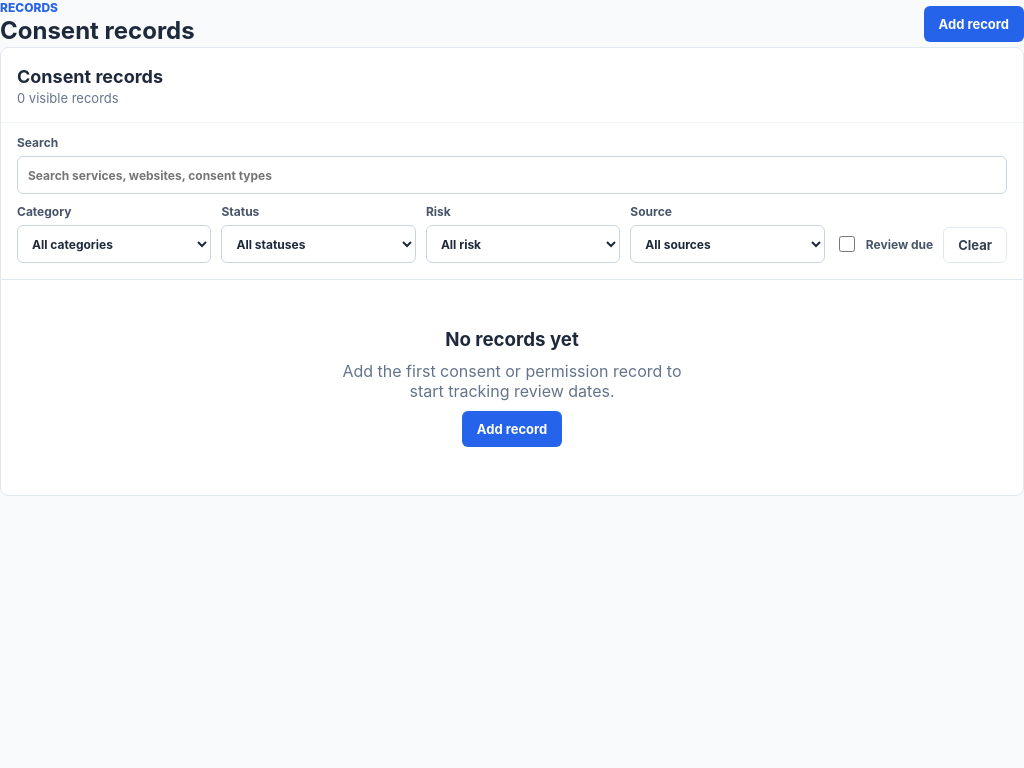
Test: record modal and CRUD › keeps Save disabled until the required fields are filled
The width and height of the screenshot is (1024, 768).
Click the 1st button "Add record": (974, 24) [924,6,1023,42]
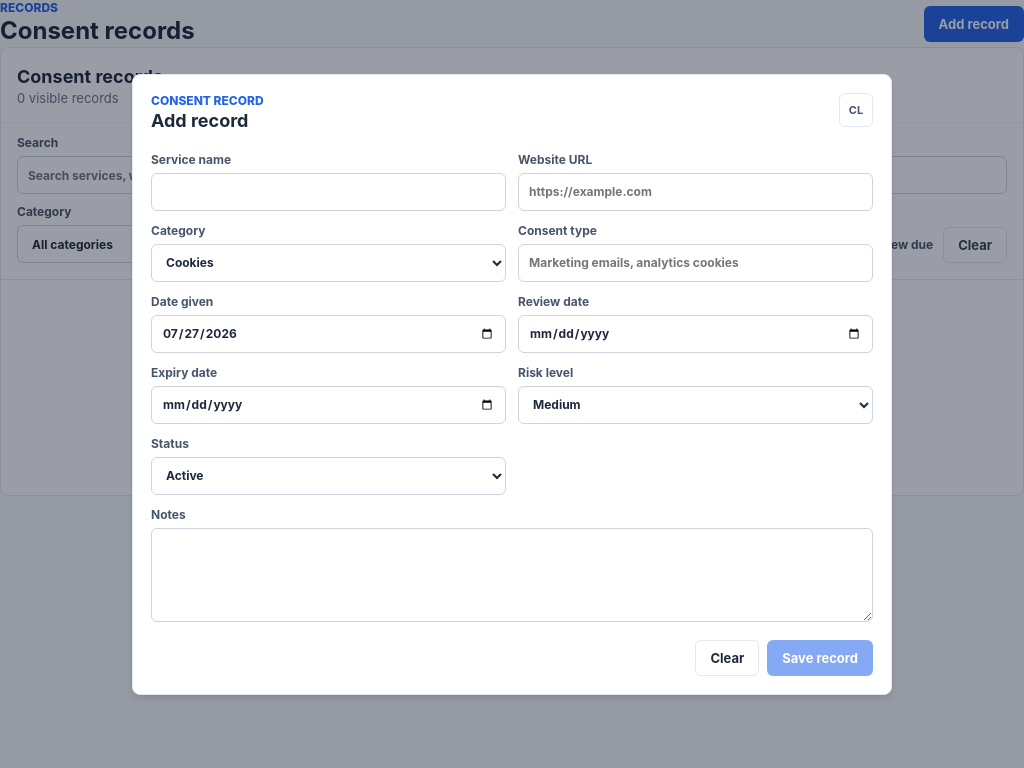
Expected: the button "Save record" is disabled, [767,640,873,676]
In the field labelled "Service name": (328, 192) [151,172,506,210], type "Acme"
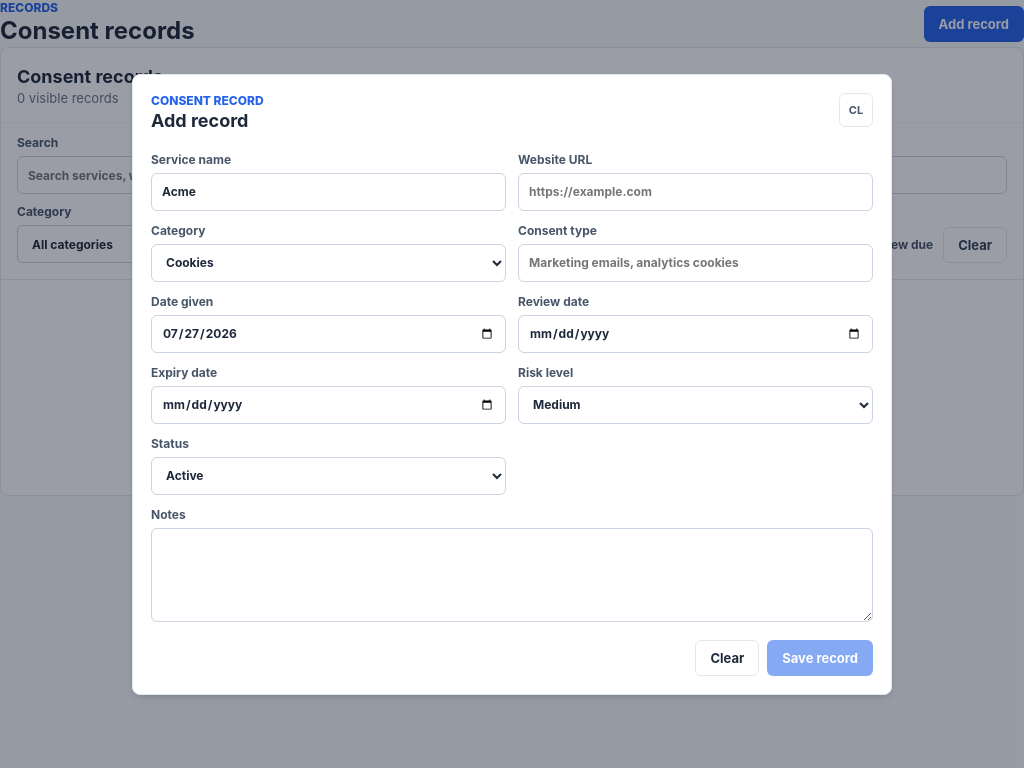
In the field labelled "Website URL": (696, 192) [518,172,873,210], type "https://acme.example"
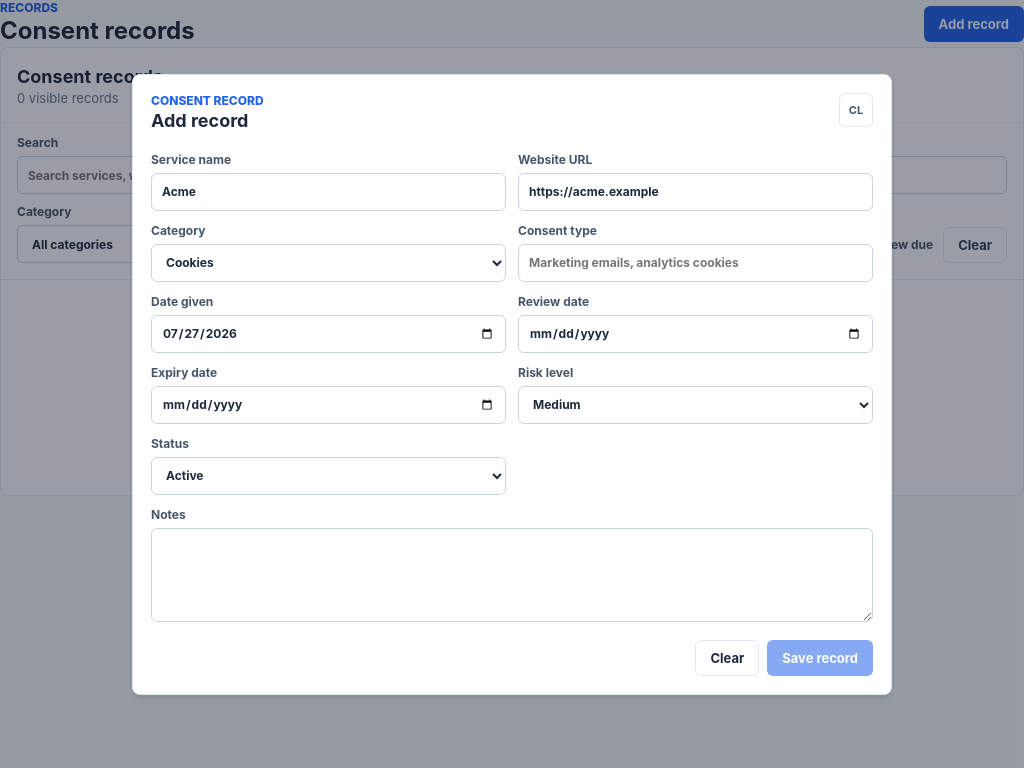
In the field labelled "Consent type": (696, 262) [518,244,873,282], type "cookies"
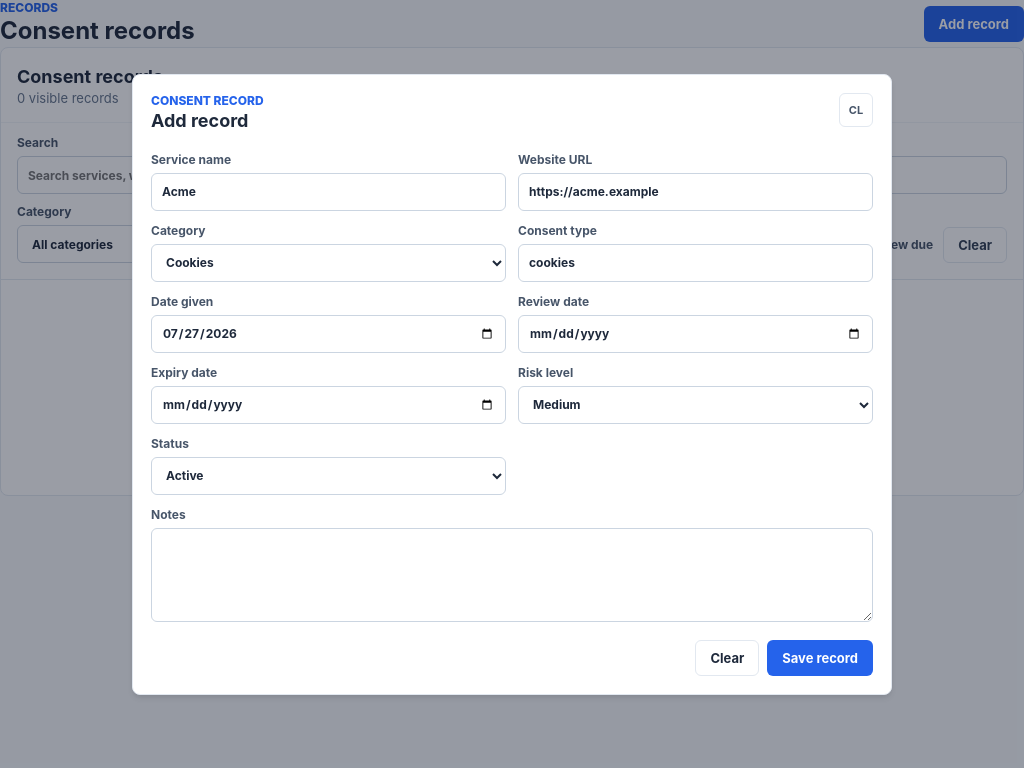
Expected: the button "Save record" is enabled, [767,640,873,676]
